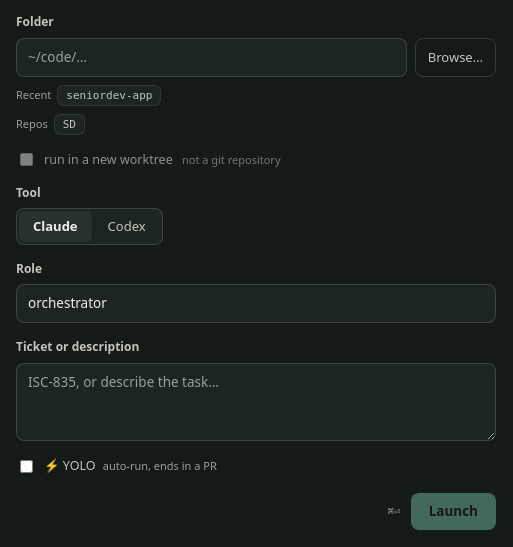
Composer › renders recent-folder chips (basename) and fills the folder when one is clicked
Check: the element named "Recent folders" is shown, box x1=16 y1=84 x2=161 y2=106
Click the button with class "chip" showing "seniordev-app".
click(109, 95)  # box x1=57 y1=84 x2=161 y2=106
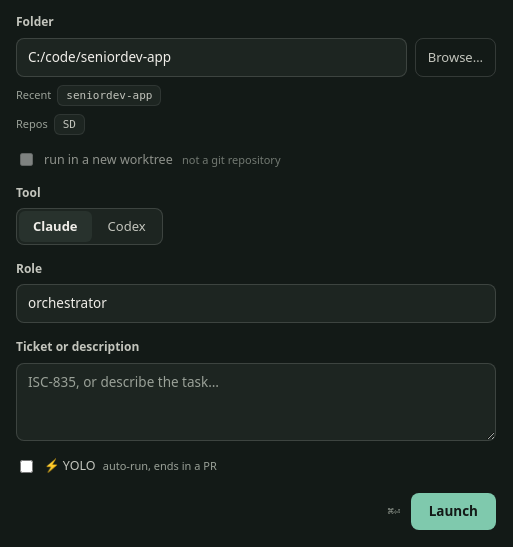
Check: the field with id "composer-folder" holds "C:/code/seniordev-app", box x1=16 y1=38 x2=407 y2=76
